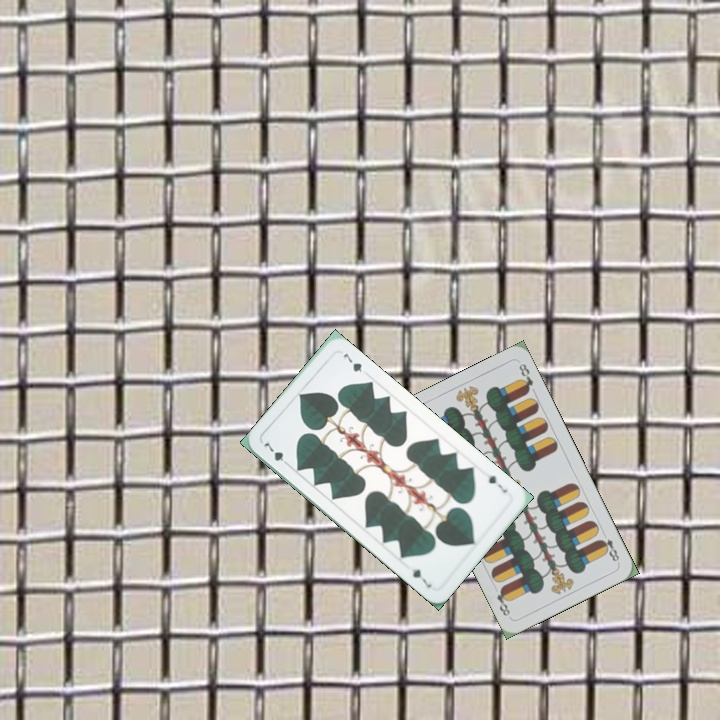E8: (596, 527, 622, 566)
G7: (259, 438, 293, 469), (484, 471, 510, 495)
